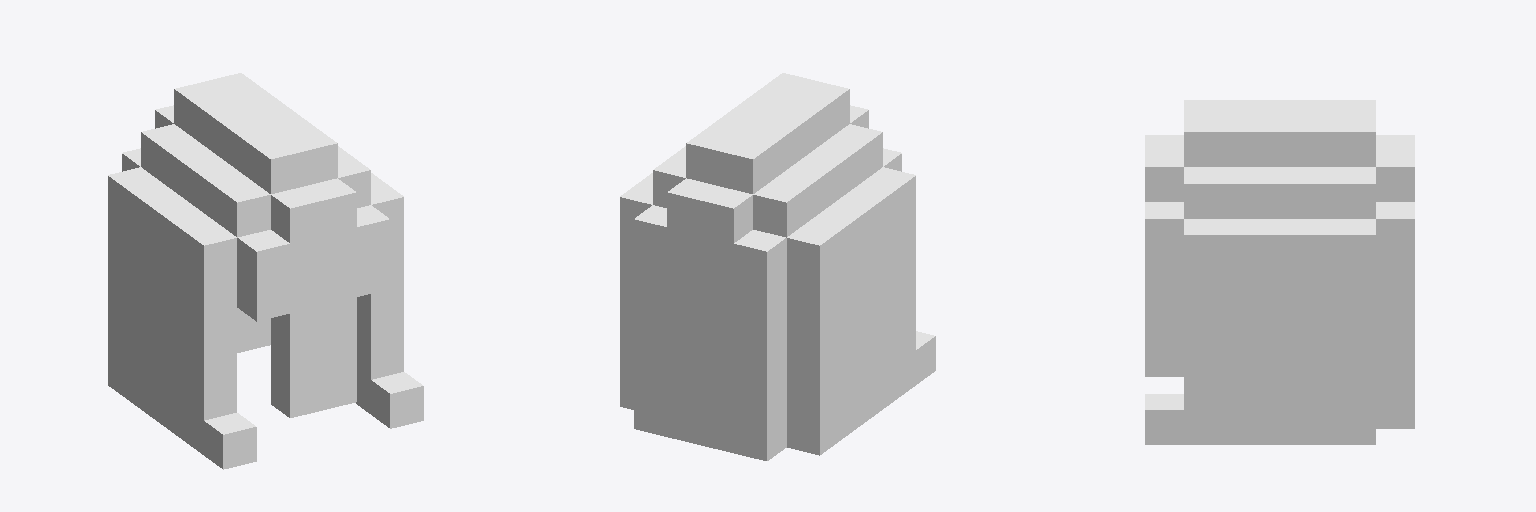
Rendered from char-234-helm_hvy_2d_du.obj.
The picture shows the model from 3 angles: view 1: azimuth 30°, elevation 25°; view 2: azimuth 150°, elevation 25°; view 3: azimuth 270°, elevation 25°; orthographic projection.
Parts seen in each view (by area): view 1: helm_hvy_2d_du; view 2: helm_hvy_2d_du; view 3: helm_hvy_2d_du.
Boxes of the visible parts, x1,y1,x2,y2 form: helm_hvy_2d_du: [108, 73, 423, 469]; helm_hvy_2d_du: [620, 73, 935, 460]; helm_hvy_2d_du: [1145, 100, 1414, 444].
Size of the model in its own units: 0.6 by 0.8 by 0.7.